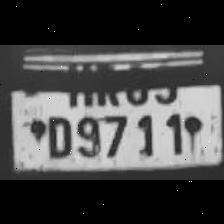1: (131, 108, 158, 158), (159, 108, 185, 156)
7: (98, 106, 128, 158)
9: (74, 110, 100, 156)
D: (42, 110, 72, 158)
